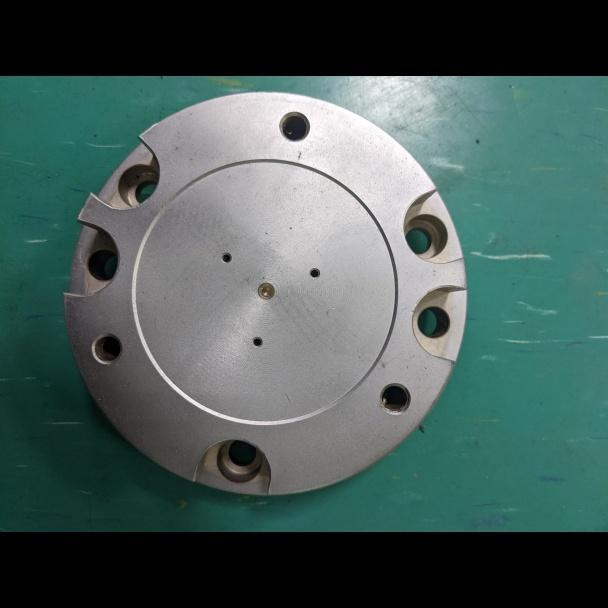hole: (209, 432, 273, 490), (396, 202, 453, 264), (105, 155, 163, 211), (411, 299, 459, 343), (82, 245, 123, 287), (84, 329, 127, 367), (276, 108, 315, 145), (375, 380, 414, 417), (217, 249, 234, 265), (249, 334, 266, 349), (307, 265, 322, 280)
